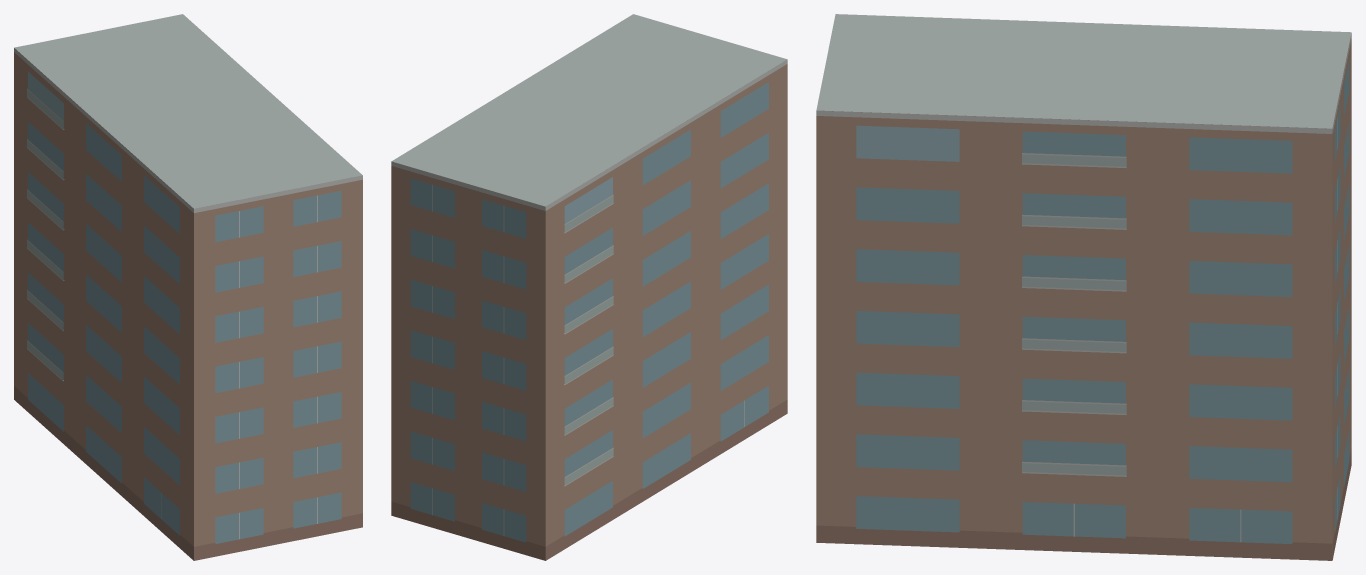
Rendered from survey-upis-32742669.glb.
The picture shows the model from 3 angles, left to right: view 1: azimuth 30°, elevation 25°; view 2: azimuth 150°, elevation 25°; view 3: azimuth 270°, elevation 25°; orthographic projection. The views are drawn at different scales.
Parts seen in each view (by area): view 1: survey-upis-32742669.tmp; view 2: survey-upis-32742669.tmp; view 3: survey-upis-32742669.tmp.
Part boxes in pixels (x1,y1,x2,y2): survey-upis-32742669.tmp: (14,14,362,560); survey-upis-32742669.tmp: (391,14,787,560); survey-upis-32742669.tmp: (816,14,1351,560).
Bounding box in the file's own units: 11.16 × 19.6 × 22.01.
